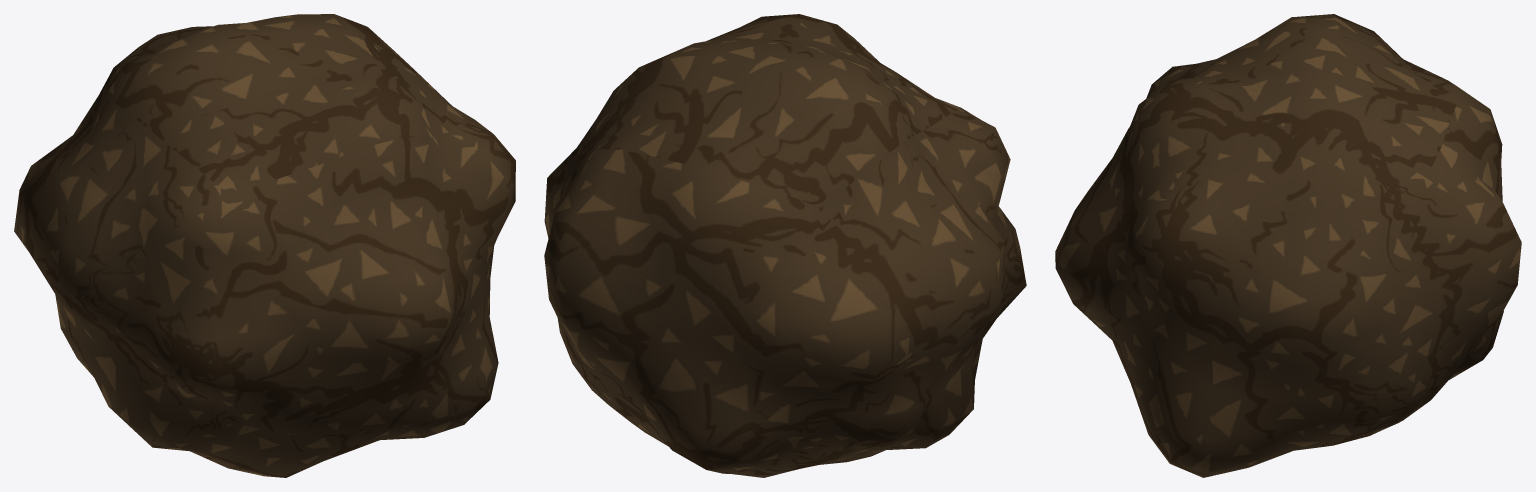
Rendered from Bolito.fbx.
The picture shows the model from 3 angles, left to right: view 1: azimuth 30°, elevation 25°; view 2: azimuth 150°, elevation 25°; view 3: azimuth 270°, elevation 25°; orthographic projection. The views are drawn at different scales.
Visible parts, largest first — view 1: Cube; view 2: Cube; view 3: Cube.
Boxes of the visible parts, x1,y1,x2,y2 form: Cube: [14, 14, 515, 477]; Cube: [544, 14, 1026, 477]; Cube: [1055, 14, 1521, 477].
Size of the model in its own units: 1.94 by 1.86 by 1.96.
1 material, 1 textured.
